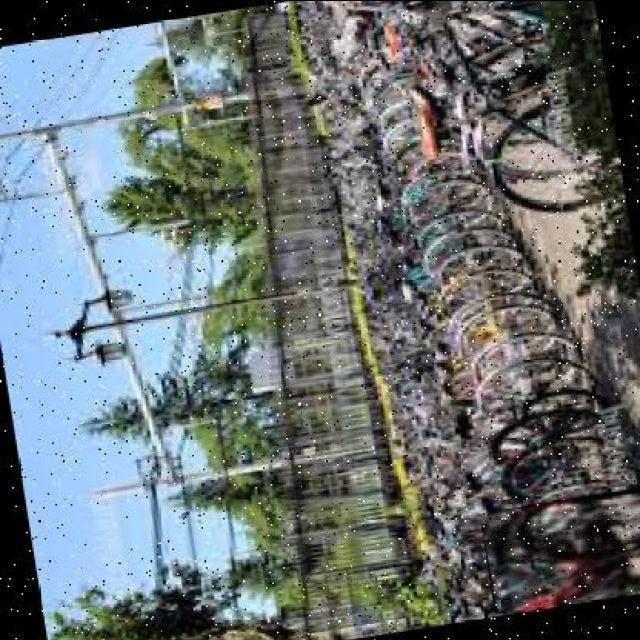bicycle: (480, 484, 640, 615)
